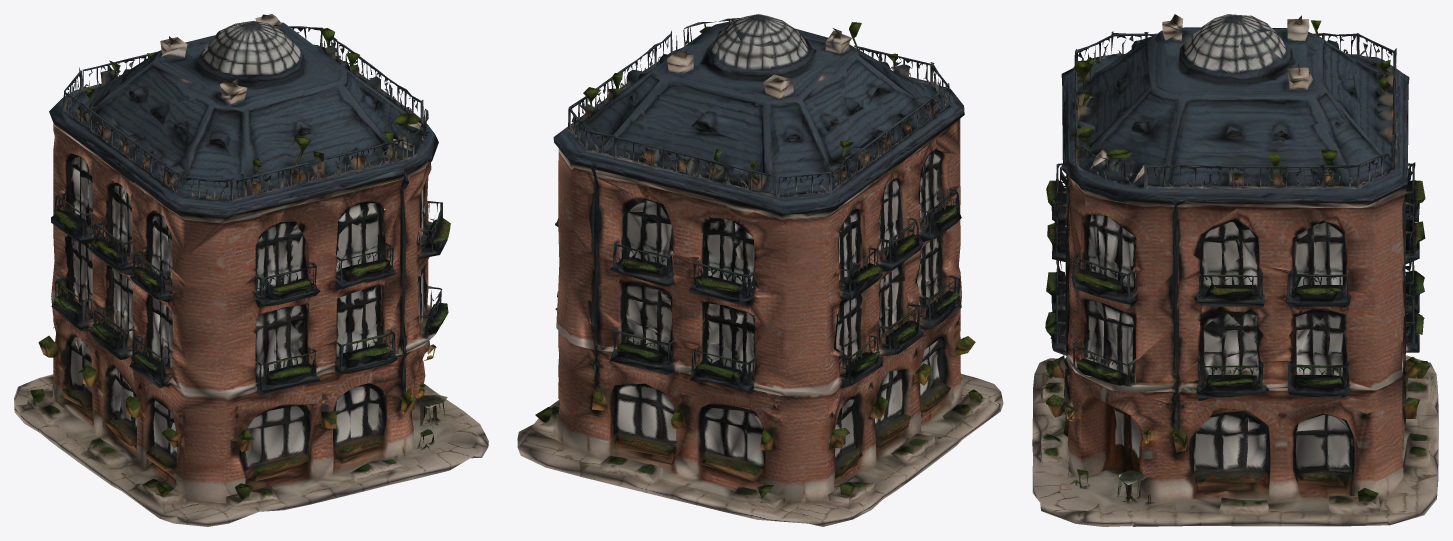
Rendered from hotelcnr_lod1.glb.
3 renders of one model, left to right at view 1: azimuth 30°, elevation 25°; view 2: azimuth 150°, elevation 25°; view 3: azimuth 270°, elevation 25°, orthographic. The views are drawn at different scales.
Parts seen in each view (by area): view 1: tripo_node_49c90adb-3e5c-4162-a032-27ce738b3c23; view 2: tripo_node_49c90adb-3e5c-4162-a032-27ce738b3c23; view 3: tripo_node_49c90adb-3e5c-4162-a032-27ce738b3c23.
Boxes of the visible parts, x1,y1,x2,y2 form: tripo_node_49c90adb-3e5c-4162-a032-27ce738b3c23: [14, 14, 488, 526]; tripo_node_49c90adb-3e5c-4162-a032-27ce738b3c23: [517, 14, 1003, 526]; tripo_node_49c90adb-3e5c-4162-a032-27ce738b3c23: [1032, 14, 1438, 526].
Size of the model in its own units: 1.05 by 1.2 by 1.05.
1 material, 1 textured.
